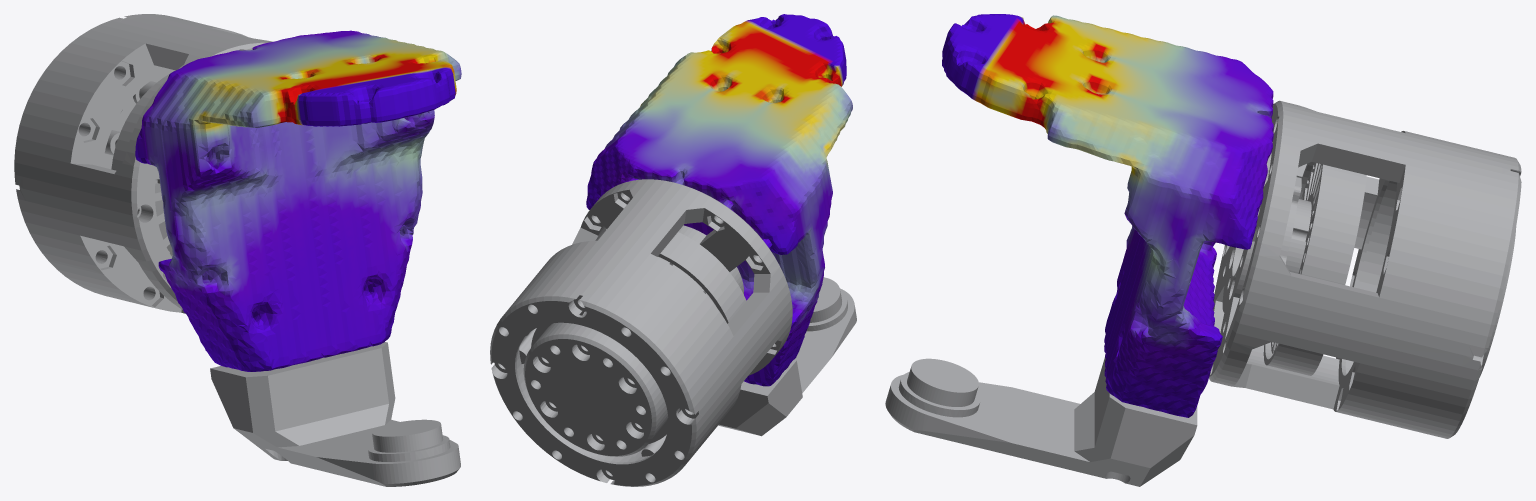
The model's file is arm_right_elbow_pitch_opt.glb.
3 views of the same model, side by side, from view 1: azimuth 30°, elevation 25°; view 2: azimuth 150°, elevation 25°; view 3: azimuth 270°, elevation 25° (orthographic). The views are drawn at different scales.
Visible parts, largest first — view 1: arm_right_elbow_pitch_visual.stl; view 2: arm_right_elbow_pitch_visual.stl; view 3: arm_right_elbow_pitch_visual.stl.
Boxes of the visible parts, x1=… form: arm_right_elbow_pitch_visual.stl: x1=14, y1=14, x2=461, y2=486; arm_right_elbow_pitch_visual.stl: x1=490, y1=14, x2=856, y2=486; arm_right_elbow_pitch_visual.stl: x1=885, y1=14, x2=1521, y2=486.
Size of the model in its own units: 0.0707 by 0.1164 by 0.1539.
